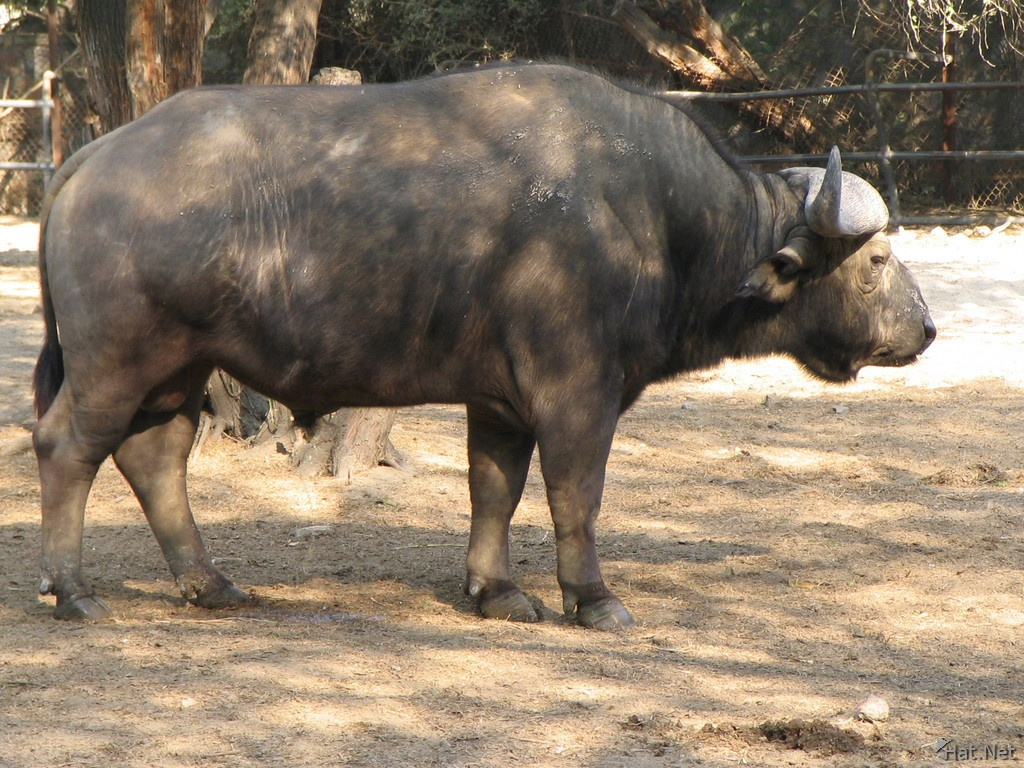buffalo: (32, 59, 942, 623)
